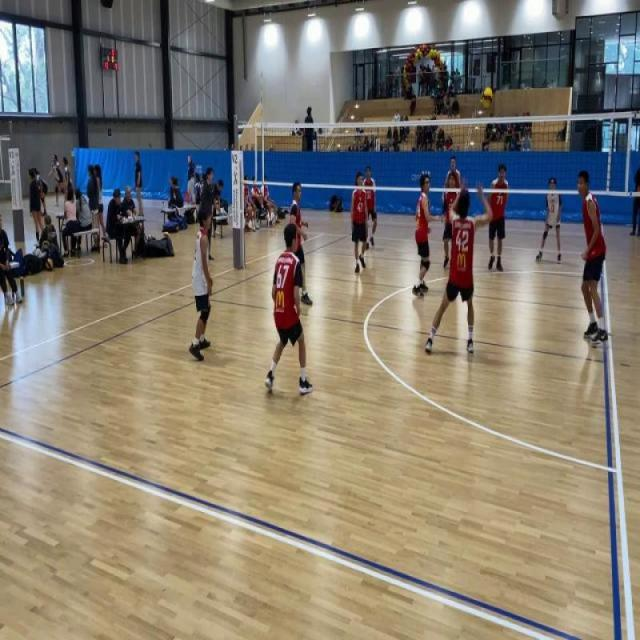volleyball: (481, 85, 494, 108), (46, 257, 54, 271), (163, 231, 169, 238), (148, 233, 152, 240)
